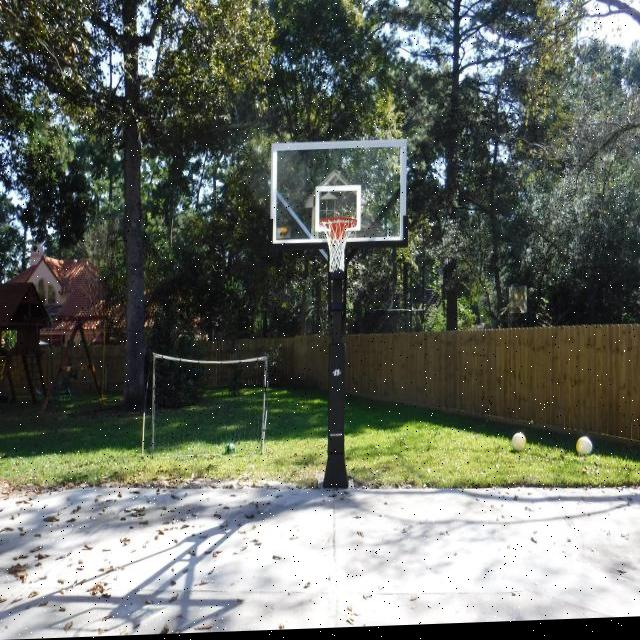Basketball: (576, 436, 593, 457), (512, 432, 526, 451), (225, 442, 235, 455)
hoop: (320, 216, 358, 273)
